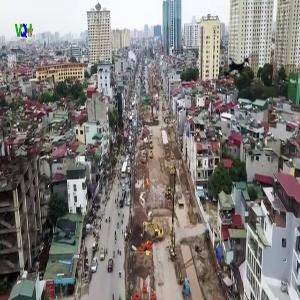drone: (211, 42, 255, 86)
